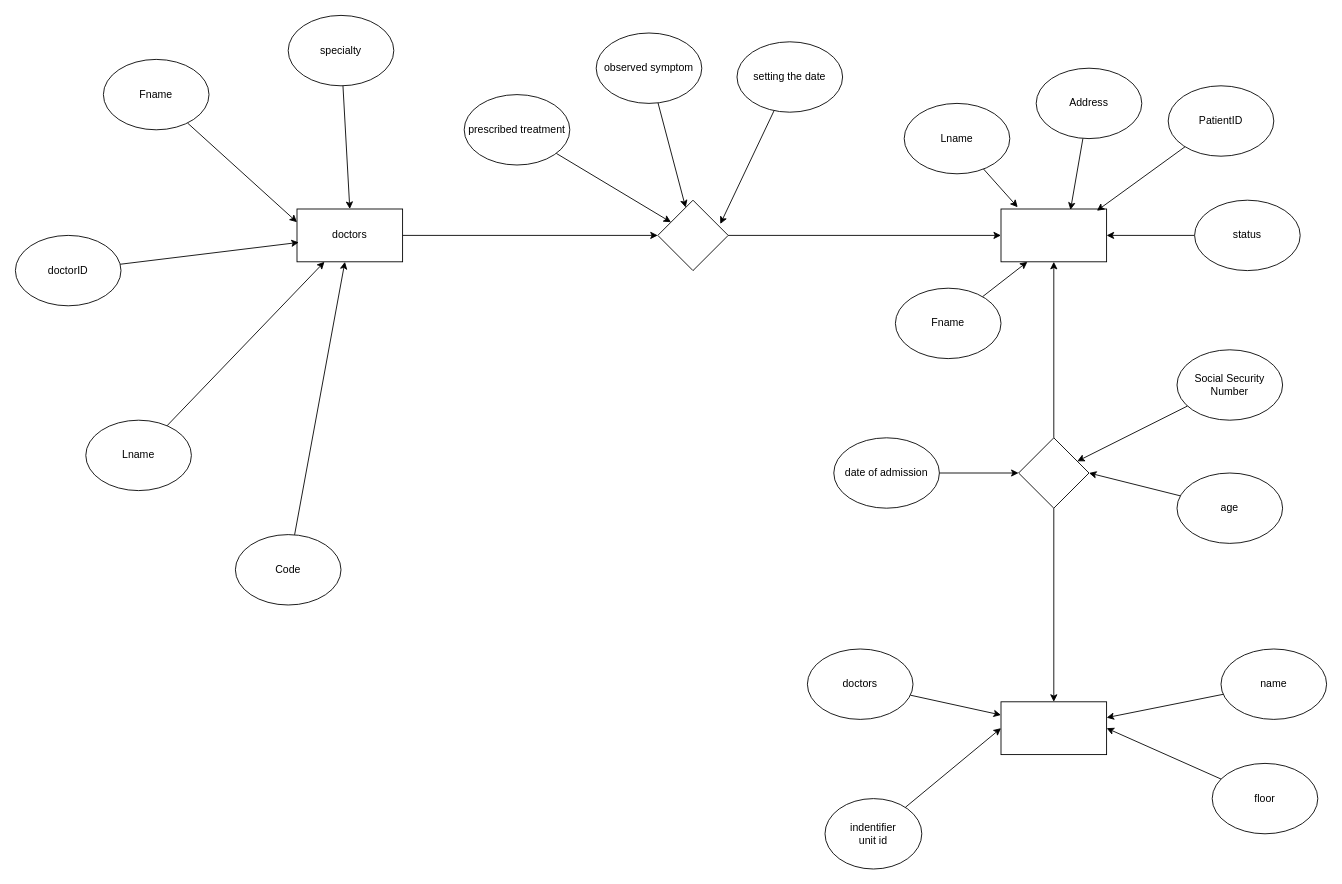
Image size: 1342x884. Some labels were removed from this diagram. The box of each missing label's shape, as (x1, y1, x2, y2) in pixels:
admission: (1018, 437, 1089, 508)
intervention: (657, 199, 728, 271)
Patients: (1000, 208, 1107, 262)
units: (1000, 701, 1107, 755)
